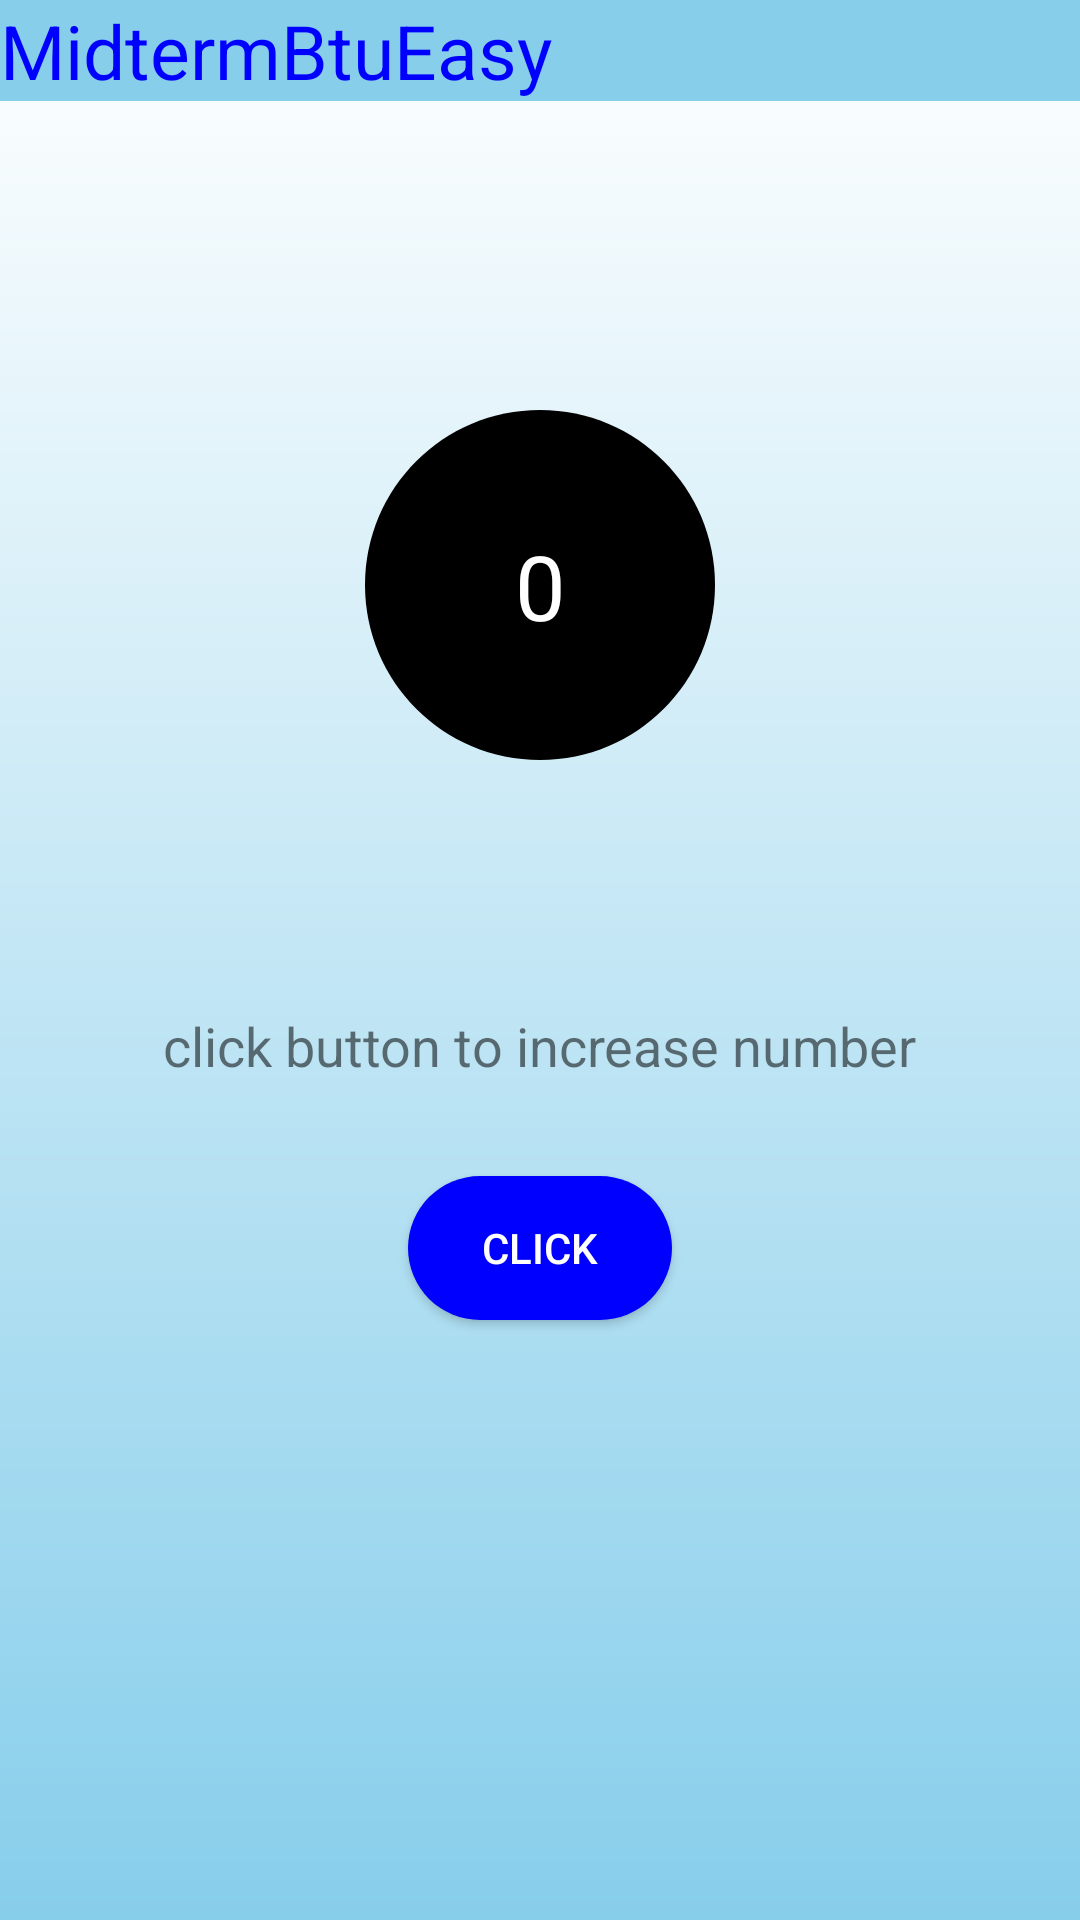

Named icons in this screenshot (1080px x 1920px) and their centers, point (x, y):
numb circle: point (540, 585)
